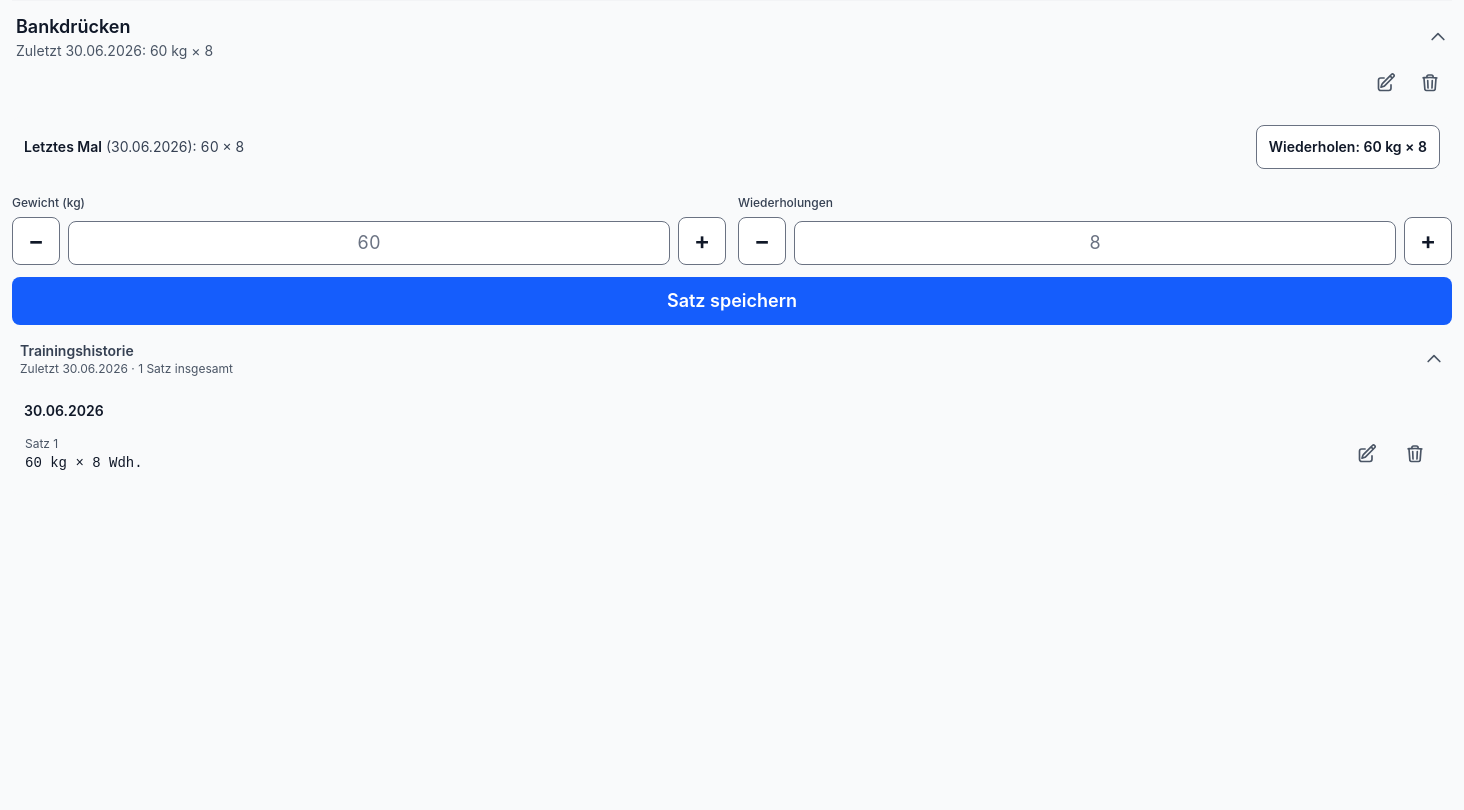
Test: ExerciseCard › edits the exercise name and link without touching its history
The width and height of the screenshot is (1464, 810).
Click the button with id "edit-exercise-btn-exercise-1" at [1386, 83], box [1364, 61, 1408, 105]
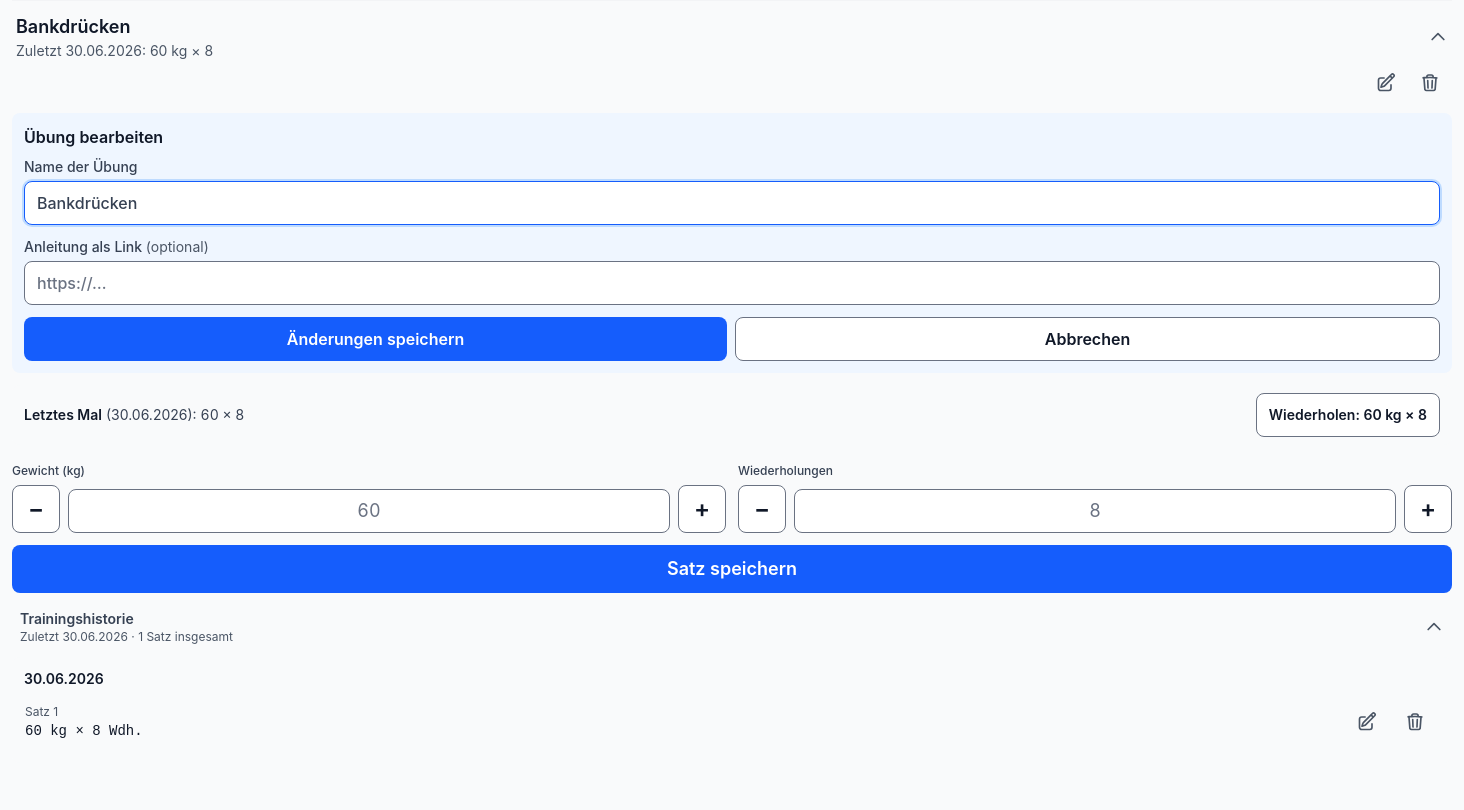
Replace the text in the field with id "edit-exercise-name-exercise-1" with "Schrägbankdrücken" at [732, 203], box [24, 181, 1440, 225]
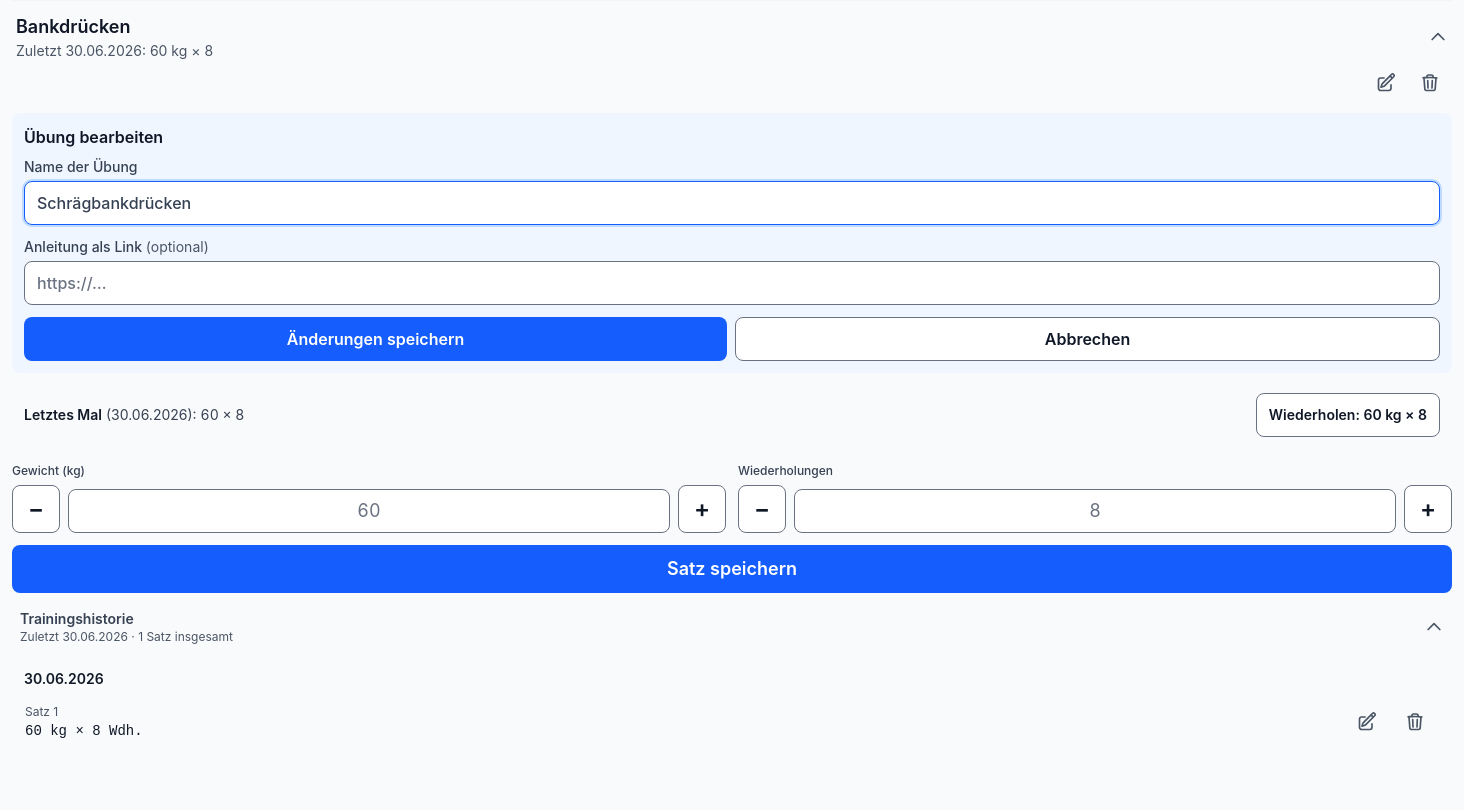
Type "javascript:alert(1)" into the field with id "edit-exercise-url-exercise-1" at [732, 283], box [24, 261, 1440, 305]
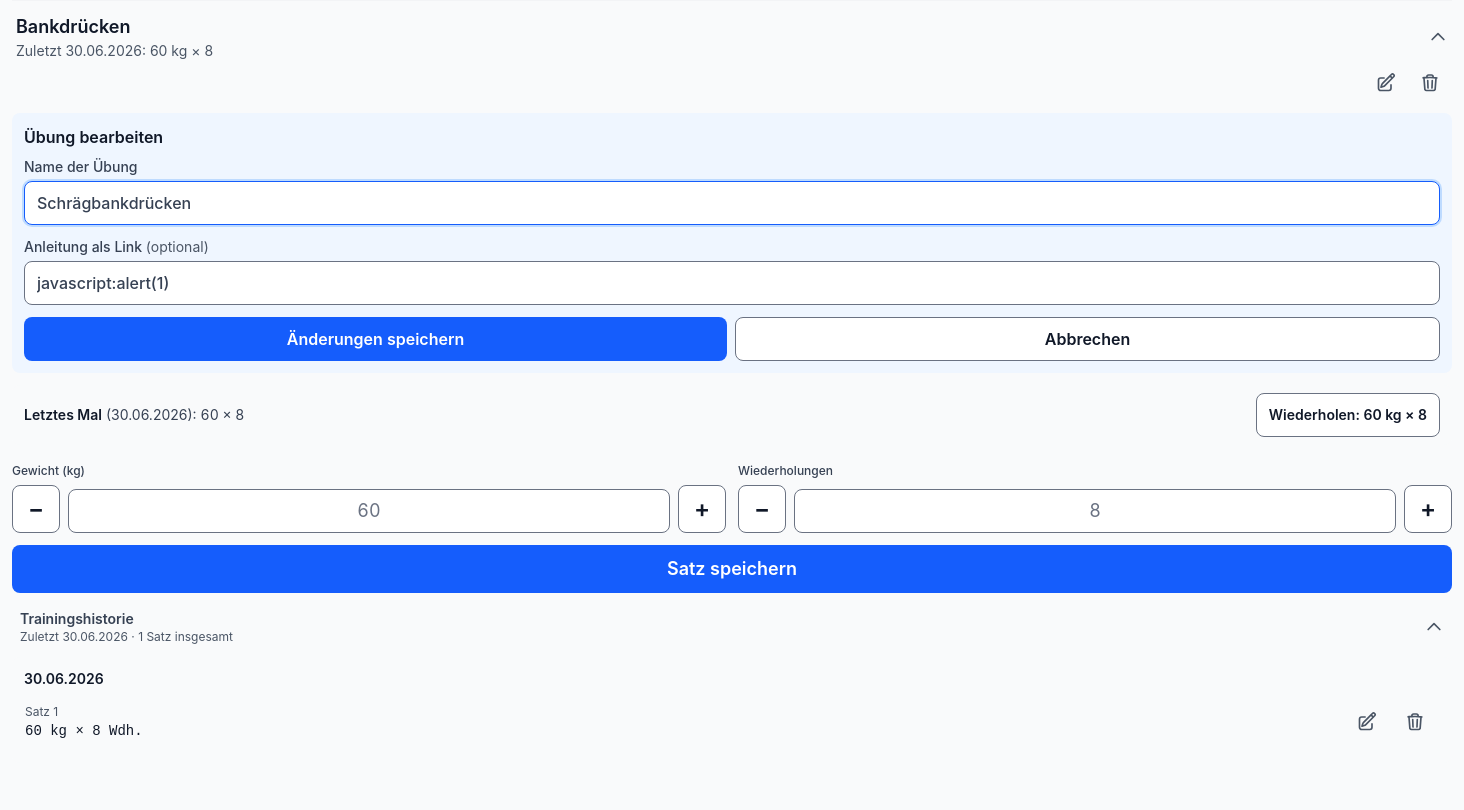
Submit the form with id "edit-exercise-form-exercise-1", box [12, 113, 1452, 373]
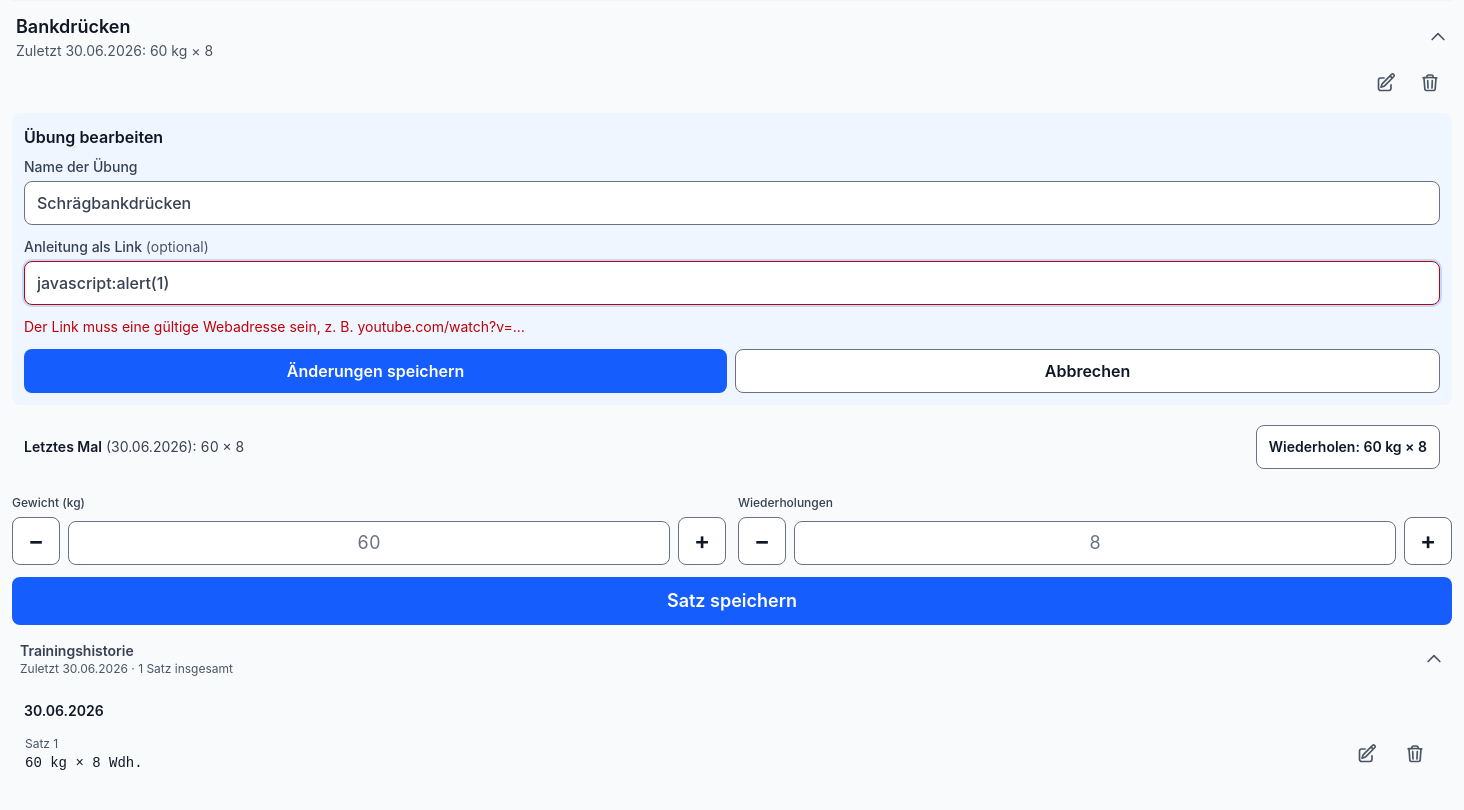
Replace the text in the field with id "edit-exercise-url-exercise-1" with "youtube.com/watch?v=1" at [732, 283], box [24, 261, 1440, 305]
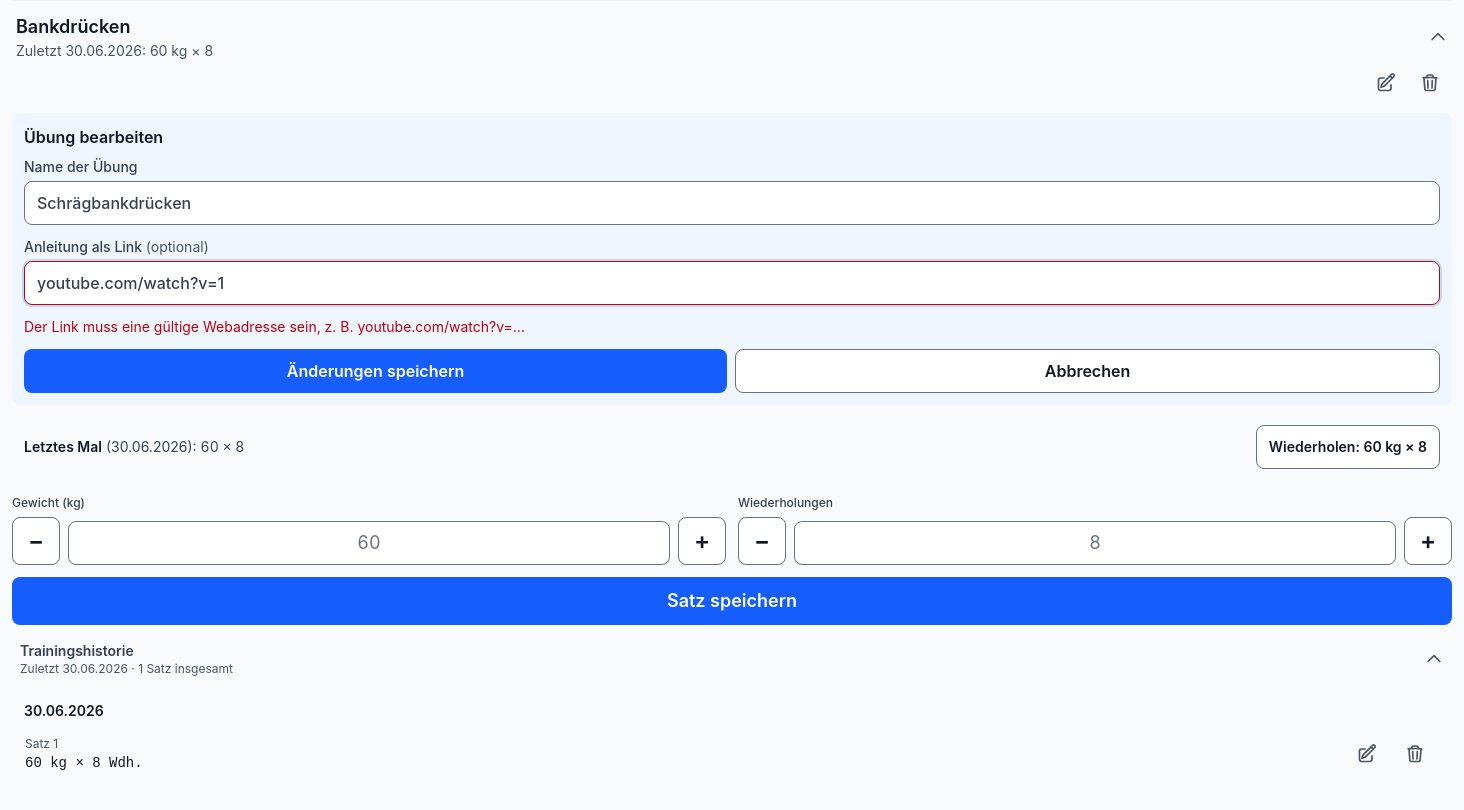
Submit the form with id "edit-exercise-form-exercise-1", box [12, 113, 1452, 405]
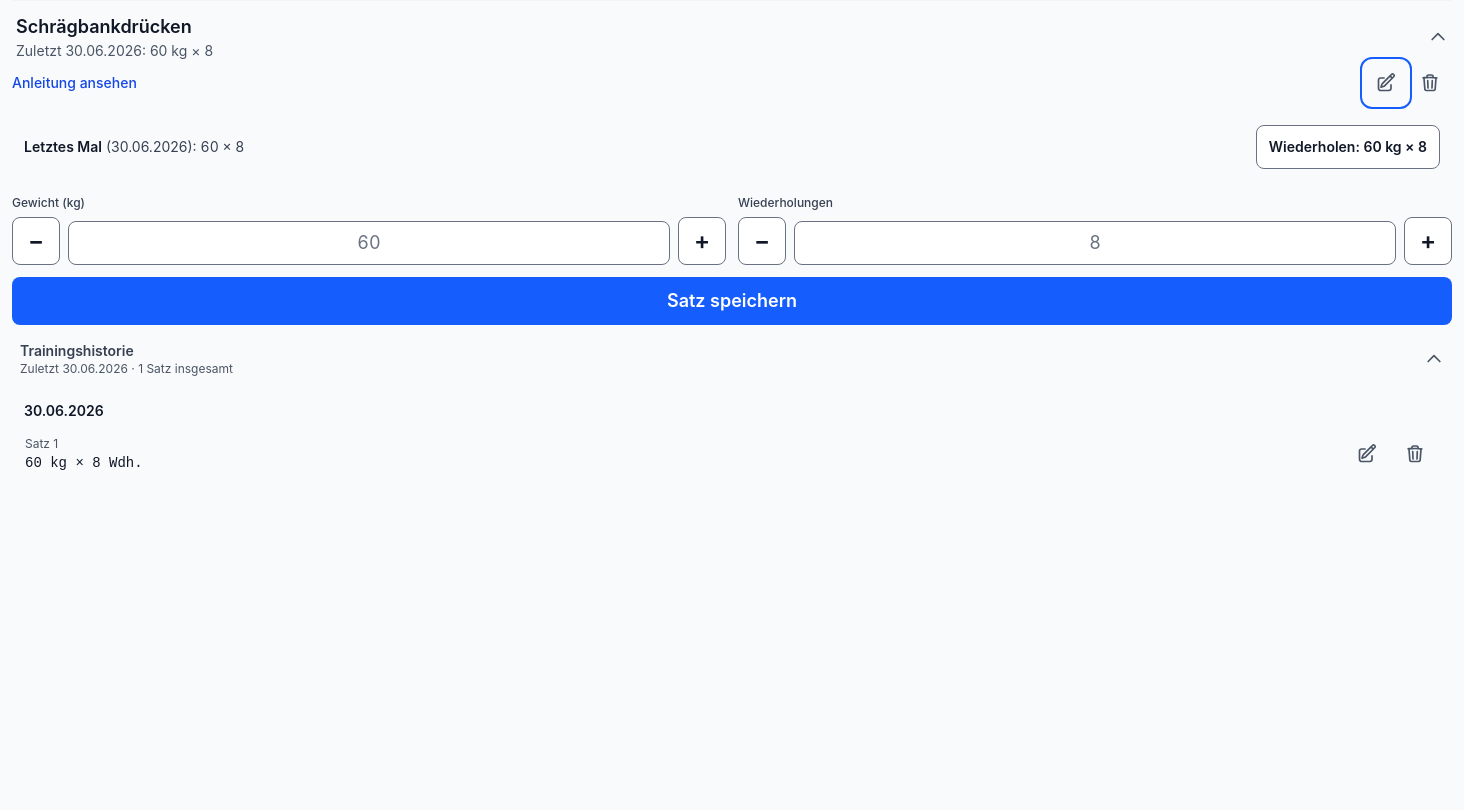
Expected: the text "Schrägbankdrücken" is shown, [16, 13, 213, 41]
